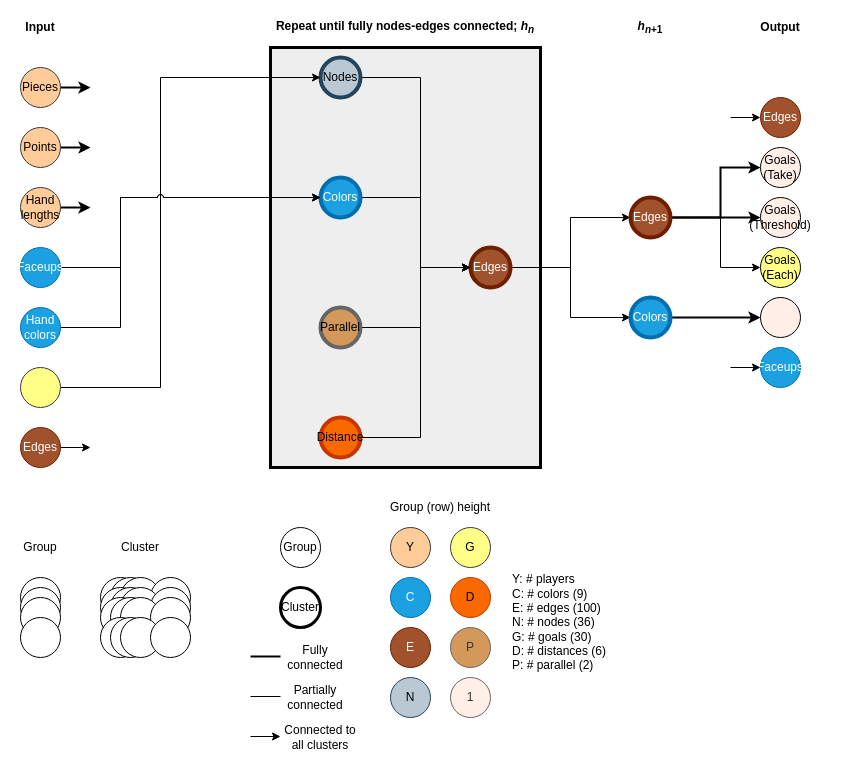
Image size: 857x769. Some labels were removed from this diagram. Each missing label, with the centre of its shape:
"Deck" belongs at [780,317].
"Goals" belongs at [40,387].
